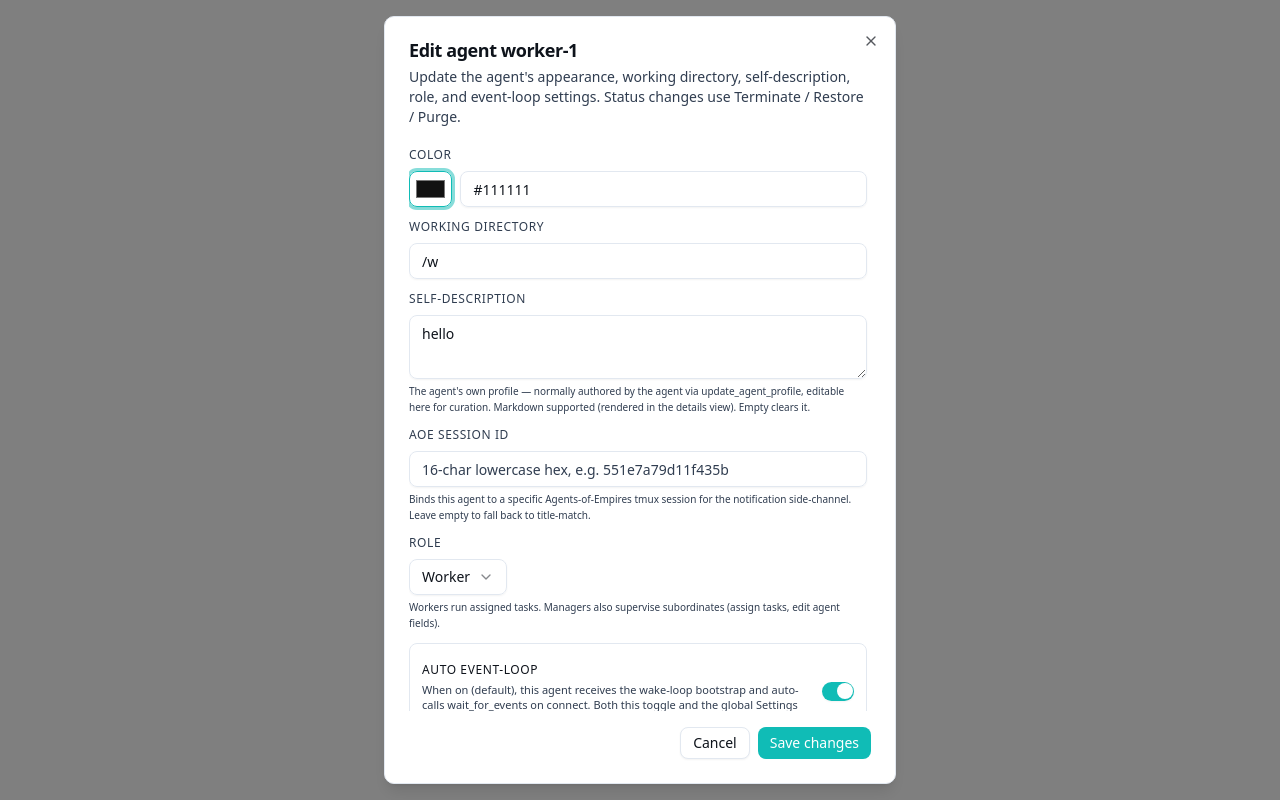
Scenario: <EditAgentDialog> › disarms Save while the AoE session id is malformed
Step 1. Type "nothex" into the field with placeholder "16-char lowercase hex, e.g. 551e7a79d11f435b" → (638, 469), box x1=409 y1=451 x2=867 y2=487
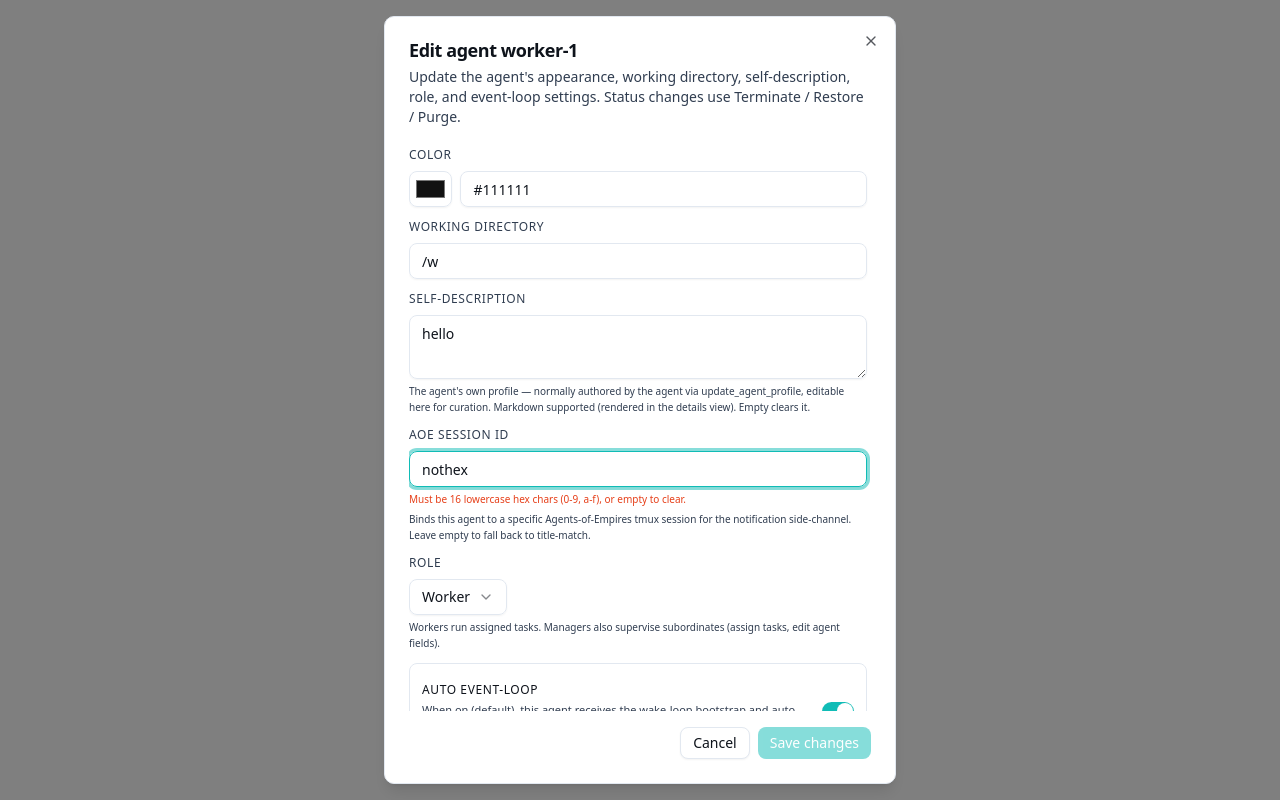
Check: the button "Save changes" is disabled, box x1=758 y1=727 x2=871 y2=759
Check: the text "Must be 16 lowercase hex chars" is shown, box x1=409 y1=492 x2=686 y2=506
